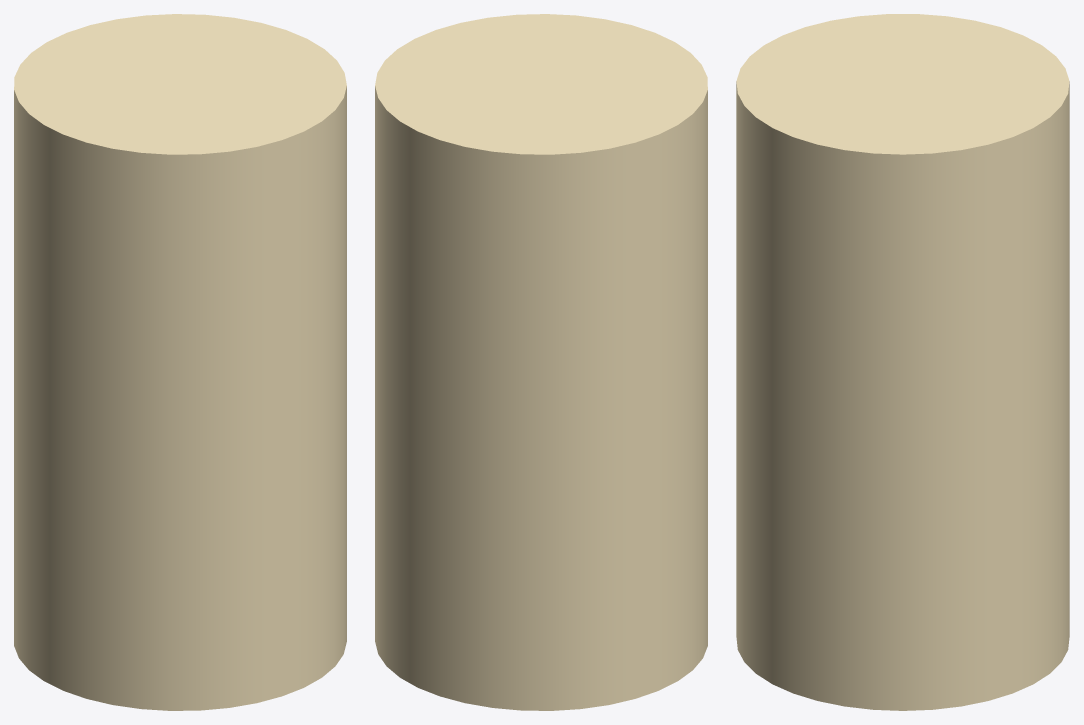
3 views of the same model, side by side, from view 1: azimuth 30°, elevation 25°; view 2: azimuth 150°, elevation 25°; view 3: azimuth 270°, elevation 25° (orthographic).
Visible parts, largest first — view 1: body; view 2: body; view 3: body.
Part boxes in pixels (bbox=[...]): body: bbox=[14, 14, 346, 710]; body: bbox=[375, 14, 707, 710]; body: bbox=[736, 14, 1069, 710].
Size of the model in its own units: 0.0244 by 0.045 by 0.0244.
